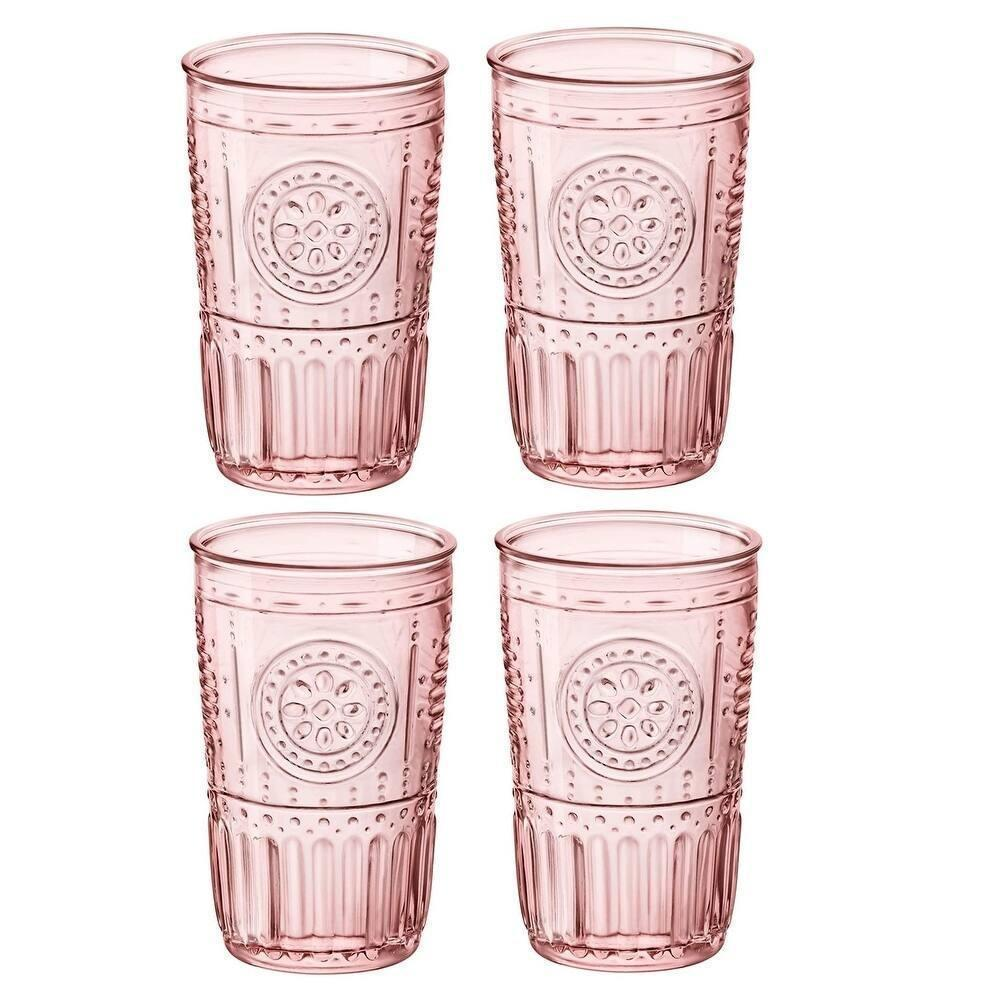glass-normal: (179, 29, 454, 499), (187, 508, 461, 977), (484, 24, 758, 493), (492, 506, 766, 974)
